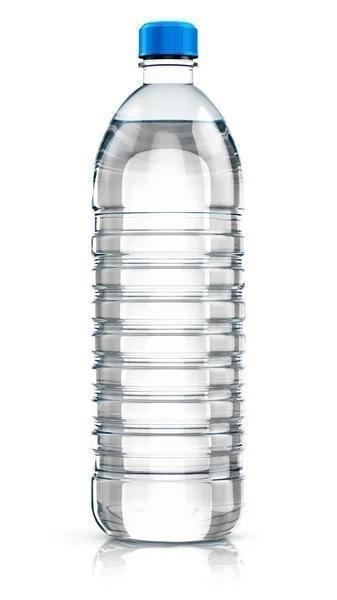bottle-plastic: (82, 12, 251, 553)
